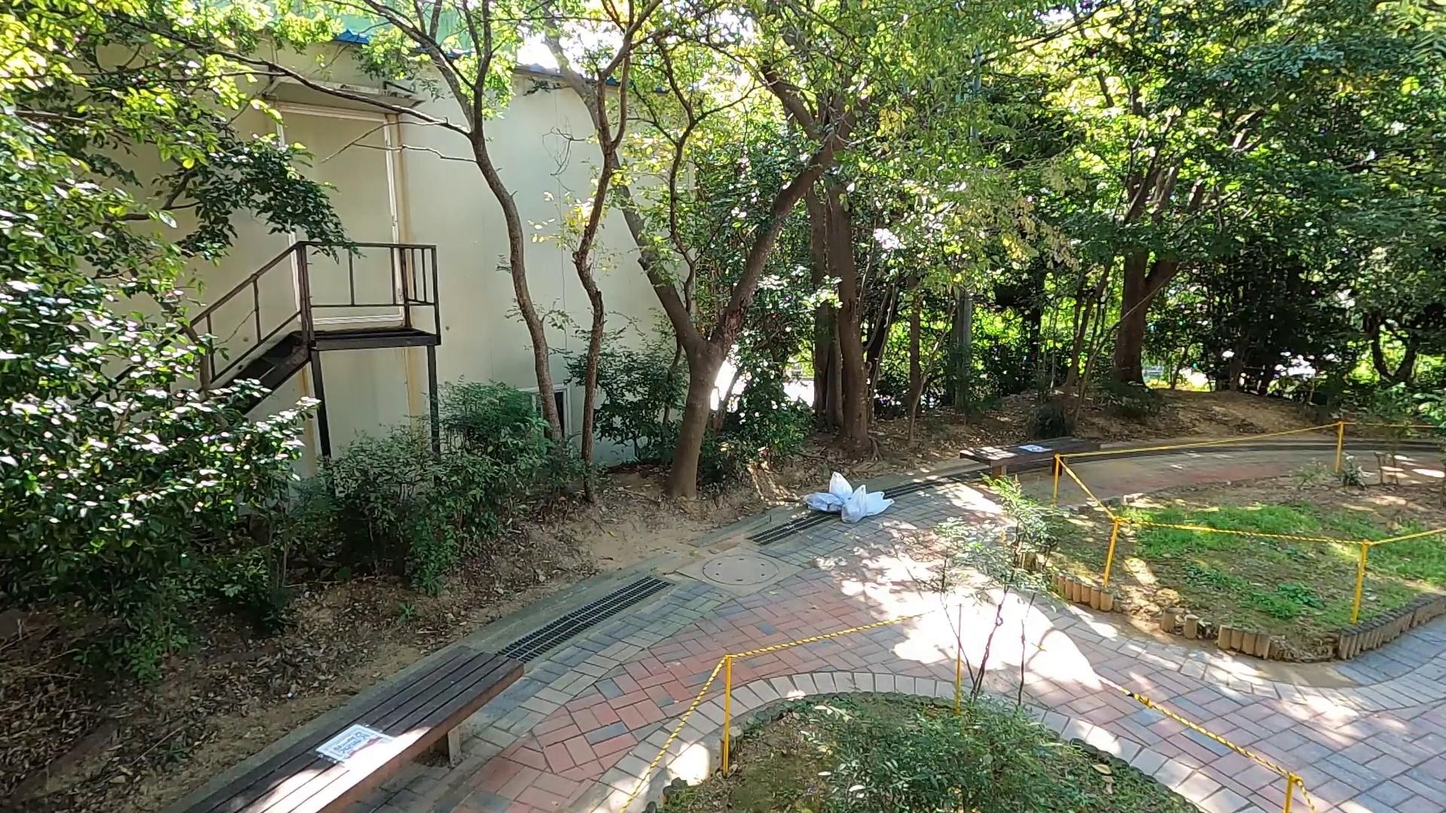trash: (841, 484, 869, 524), (827, 471, 854, 506), (857, 491, 895, 514), (803, 491, 842, 513)
